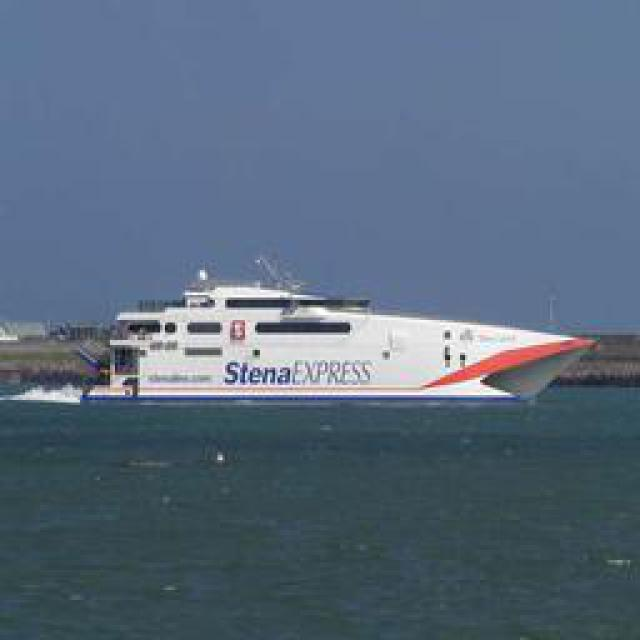Ship: (82, 278, 605, 406)
